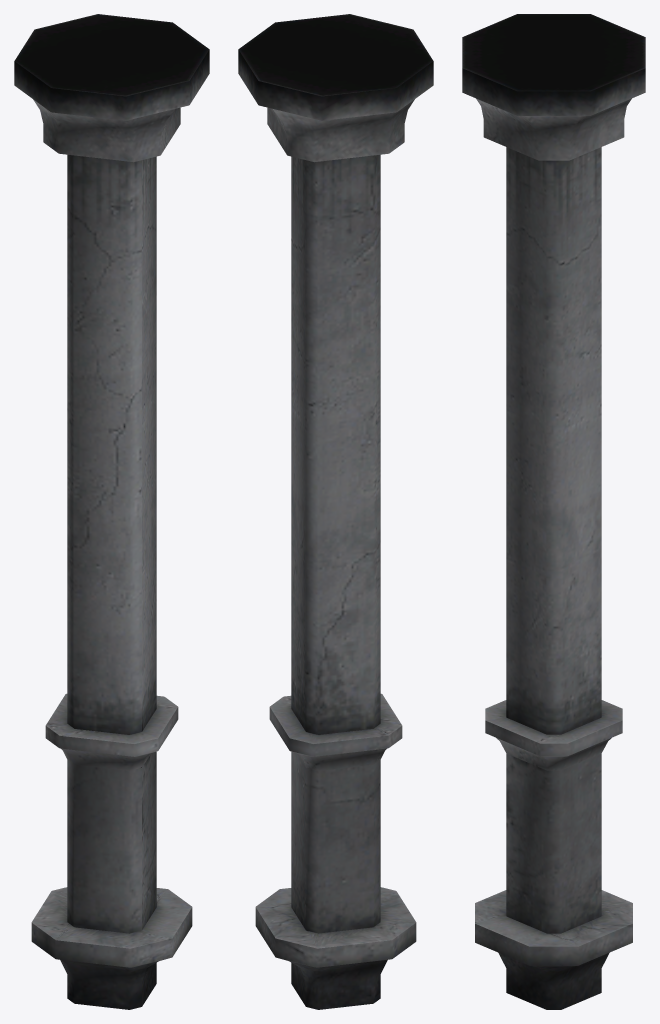
The model's file is welder_blue.dae.
3 views of the same model, side by side, from view 1: azimuth 30°, elevation 25°; view 2: azimuth 150°, elevation 25°; view 3: azimuth 270°, elevation 25° (orthographic).
Visible parts, largest first — view 1: mansionbase_welder; view 2: mansionbase_welder; view 3: mansionbase_welder.
Boxes of the visible parts, x1,y1,x2,y2 form: mansionbase_welder: (14,14,209,1009); mansionbase_welder: (238,14,433,1009); mansionbase_welder: (462,14,645,1009).
Size of the model in its own units: 0.7087 by 4 by 0.7087.
